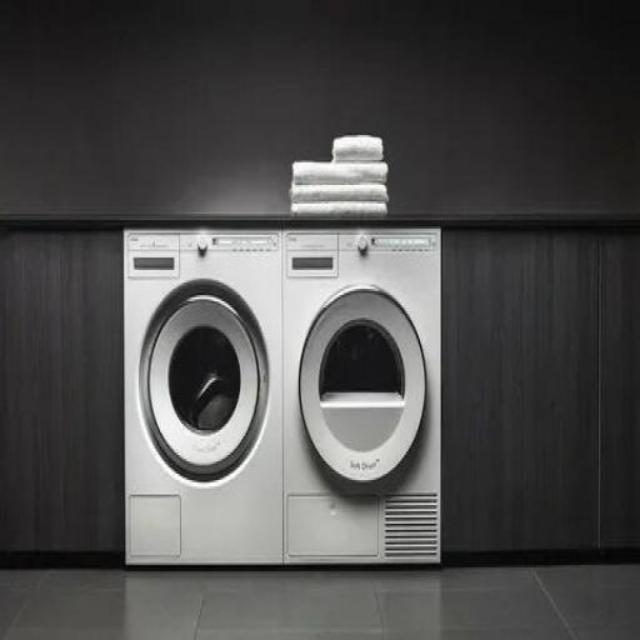Washing-Machine: (286, 228, 440, 566), (126, 233, 282, 561)
